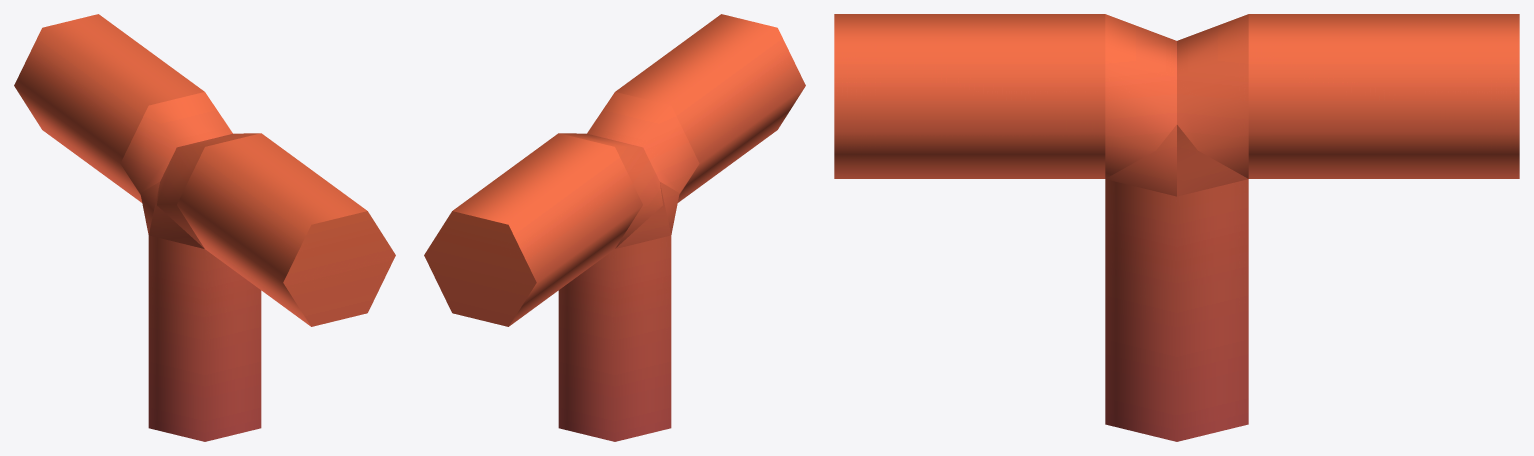
The model's file is pipe-split.glb.
3 views of the same model, side by side, from view 1: azimuth 30°, elevation 25°; view 2: azimuth 150°, elevation 25°; view 3: azimuth 270°, elevation 25° (orthographic). The views are drawn at different scales.
Visible parts, largest first — view 1: pipe-split; view 2: pipe-split; view 3: pipe-split.
Boxes of the visible parts, x1,y1,x2,y2 form: pipe-split: (14, 14, 395, 441); pipe-split: (424, 14, 805, 441); pipe-split: (834, 14, 1519, 441).
Size of the model in its own units: 0.2 by 0.5 by 0.8268.
Materials: 1 (1 with a texture image).
